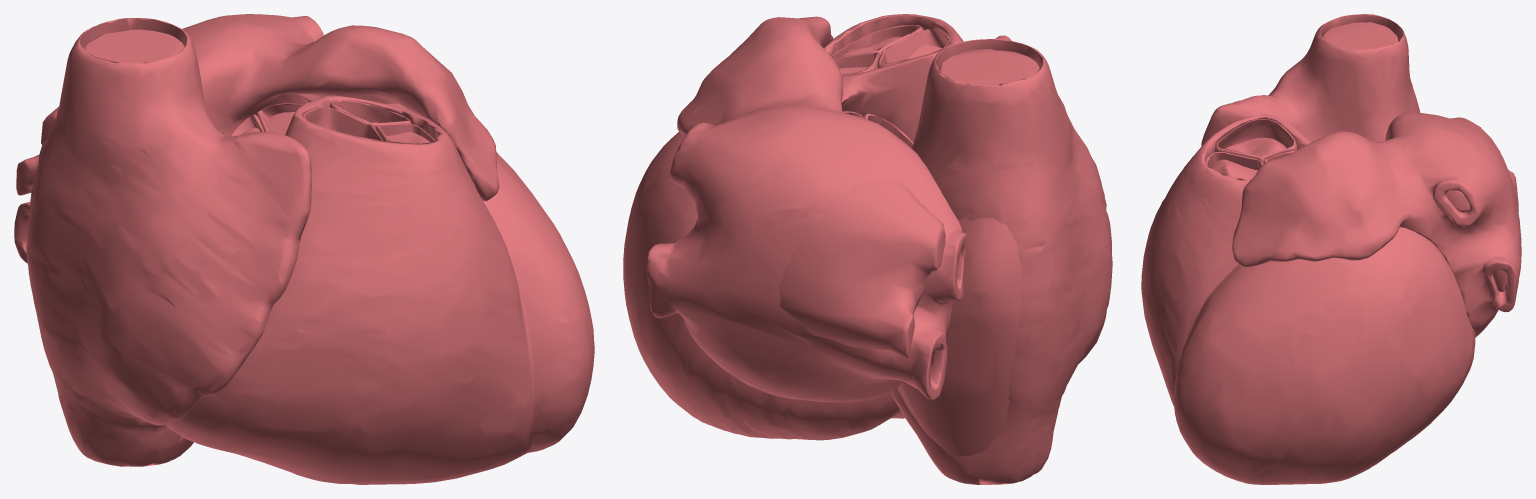
File: cuore.glb
3 views of the same model, side by side, from view 1: azimuth 30°, elevation 25°; view 2: azimuth 150°, elevation 25°; view 3: azimuth 270°, elevation 25° (orthographic). The views are drawn at different scales.
Parts seen in each view (by area): view 1: FJ2428, FJ2439, FJ2438, FJ2424, FJ2434, FJ2427, FJ2425; view 2: FJ2438, FJ2439, FJ2428, FJ2425, FJ2424, FJ2434, FJ2417, FJ2423, FJ2427; view 3: FJ2428, FJ2438, FJ2439, FJ2434, FJ2424, FJ2423, FJ2425, FJ2417.
Part boxes in pixels (box(x1,y1,x2,y2)): FJ2428: box(166, 94, 594, 484); FJ2439: box(26, 18, 311, 466); FJ2438: box(14, 14, 499, 262); FJ2424: box(83, 29, 184, 63); FJ2434: box(302, 107, 382, 140); FJ2427: box(330, 100, 411, 128); FJ2425: box(16, 106, 59, 195); FJ2438: box(646, 16, 967, 402); FJ2439: box(890, 35, 1112, 484); FJ2428: box(623, 14, 963, 440); FJ2425: box(778, 178, 945, 357); FJ2424: box(897, 48, 1039, 456); FJ2434: box(877, 28, 949, 68); FJ2417: box(831, 24, 923, 58); FJ2423: box(839, 36, 942, 74); FJ2427: box(833, 52, 879, 75); FJ2428: box(1141, 114, 1475, 484); FJ2438: box(1232, 112, 1521, 337); FJ2439: box(1201, 14, 1420, 146); FJ2434: box(1215, 119, 1297, 163); FJ2424: box(1322, 22, 1398, 49); FJ2423: box(1211, 137, 1286, 180); FJ2425: box(1446, 117, 1518, 291); FJ2417: box(1205, 151, 1263, 170).
Bounding box in the file's own units: 0.1154 × 0.1053 × 0.1064.
